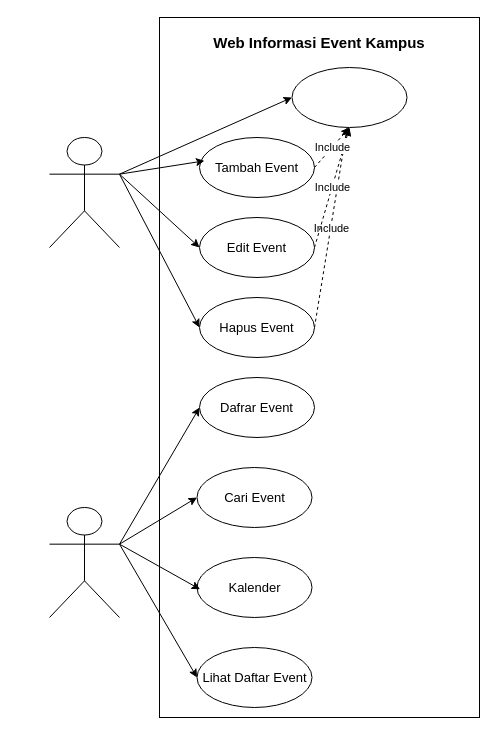
This 497x735 diagram has some shape labels left out. Each missing label, with the centre of its shape:
"Admin" goes at point 84,192.
"Login Admin" goes at point 349,97.
"Mahasiswa / Pengunjung" goes at point 84,562.
